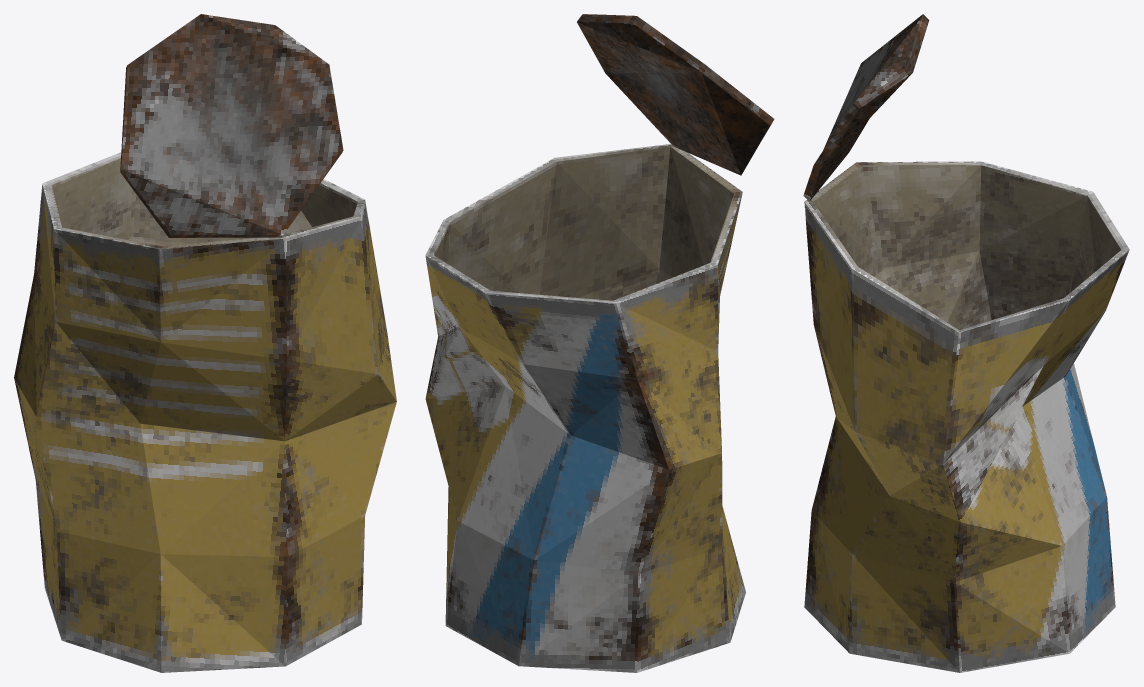
File: AluminumCan.glb
3 views of the same model, side by side, from view 1: azimuth 30°, elevation 25°; view 2: azimuth 150°, elevation 25°; view 3: azimuth 270°, elevation 25° (orthographic). The views are drawn at different scales.
Visible parts, largest first — view 1: Cylinder, Cylinder.001; view 2: Cylinder, Cylinder.001; view 3: Cylinder, Cylinder.001.
Part boxes in pixels (bbox=[...]): Cylinder: bbox=[14, 152, 396, 672]; Cylinder.001: bbox=[120, 14, 343, 237]; Cylinder: bbox=[425, 144, 745, 672]; Cylinder.001: bbox=[577, 14, 774, 175]; Cylinder: bbox=[804, 161, 1129, 672]; Cylinder.001: bbox=[803, 14, 929, 201].
Size of the model in its own units: 0.1436 by 0.2562 by 0.1304.
1 material, 1 textured.
